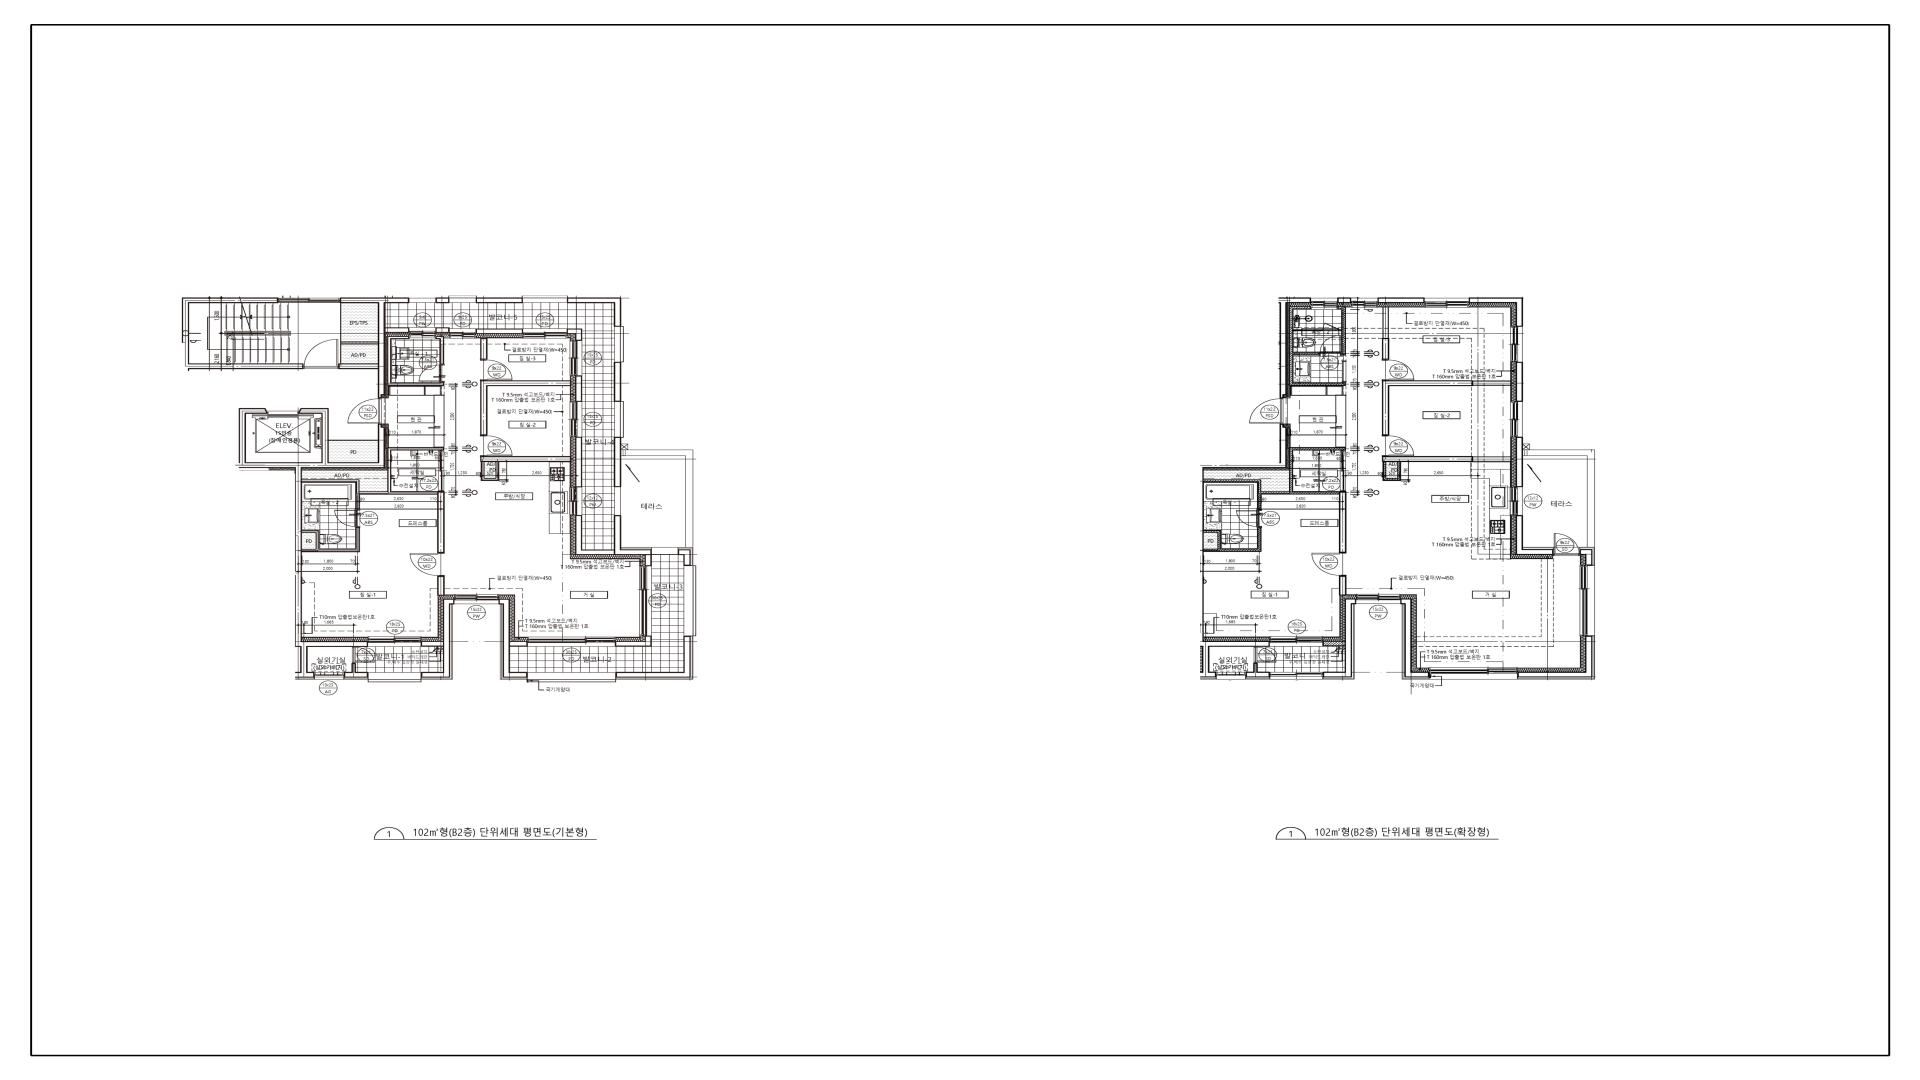door: (303, 339, 339, 369), (348, 398, 386, 423), (1249, 398, 1287, 423), (1312, 553, 1346, 576), (410, 553, 444, 576), (480, 434, 513, 456), (480, 359, 513, 381), (1382, 359, 1414, 381), (1382, 434, 1414, 456), (1553, 533, 1580, 556), (1236, 509, 1262, 527), (334, 509, 360, 527), (418, 364, 444, 382), (1320, 335, 1342, 356), (1323, 323, 1340, 331), (1341, 360, 1346, 382)
wall: (239, 407, 385, 678), (1197, 423, 1287, 678), (302, 447, 444, 553), (1204, 447, 1346, 553), (182, 298, 303, 369), (1382, 380, 1511, 435), (339, 298, 409, 398), (480, 380, 571, 435), (1288, 306, 1346, 386), (1382, 456, 1511, 481), (616, 636, 691, 678), (1518, 636, 1593, 678), (1279, 298, 1311, 398), (388, 336, 444, 386), (1323, 599, 1356, 678), (422, 599, 454, 678), (1400, 599, 1429, 678), (498, 599, 527, 678), (480, 456, 571, 481), (340, 303, 377, 364), (1469, 298, 1523, 327), (567, 298, 621, 327), (575, 516, 615, 555), (1515, 516, 1553, 555), (615, 516, 651, 555), (302, 527, 360, 553), (1204, 527, 1262, 553), (1337, 306, 1346, 360), (1382, 307, 1390, 359), (1515, 436, 1523, 487), (575, 438, 583, 487), (616, 637, 651, 647), (1246, 663, 1270, 678), (344, 663, 368, 678), (1515, 361, 1523, 402), (615, 438, 621, 487), (615, 363, 621, 402), (1378, 298, 1424, 303), (476, 328, 522, 334), (476, 298, 522, 303), (436, 336, 444, 364), (678, 550, 691, 566), (1580, 550, 1593, 566), (484, 462, 496, 479), (575, 376, 583, 401), (567, 328, 583, 340), (480, 338, 488, 359), (1338, 576, 1346, 596), (1323, 641, 1345, 647), (422, 641, 443, 647), (438, 576, 444, 596), (385, 327, 409, 332), (510, 641, 527, 647), (1337, 298, 1352, 303), (435, 327, 450, 332), (435, 298, 450, 303), (645, 555, 651, 566), (1292, 330, 1323, 331), (1340, 330, 1341, 331), (328, 440, 378, 440)
window: (1580, 566, 1596, 636), (1429, 667, 1518, 679), (527, 673, 616, 683), (527, 637, 616, 647), (640, 566, 651, 637), (684, 566, 696, 636), (368, 637, 422, 647), (1270, 637, 1324, 647), (368, 673, 421, 683), (570, 401, 583, 438), (522, 328, 567, 339), (1510, 327, 1523, 363), (570, 340, 583, 376), (1510, 402, 1523, 436), (1424, 298, 1469, 307), (1356, 595, 1400, 604), (454, 595, 498, 604), (570, 487, 583, 516), (1510, 487, 1523, 516), (522, 295, 567, 303), (1270, 673, 1323, 679), (615, 402, 624, 438), (615, 327, 624, 363), (409, 327, 436, 339), (278, 298, 340, 303), (1311, 298, 1337, 310), (450, 328, 476, 339), (1340, 451, 1346, 491), (438, 451, 444, 491), (1352, 298, 1378, 307), (314, 673, 344, 680), (450, 295, 476, 303), (651, 547, 678, 555), (1216, 673, 1246, 679), (615, 487, 621, 516), (409, 298, 436, 303)
